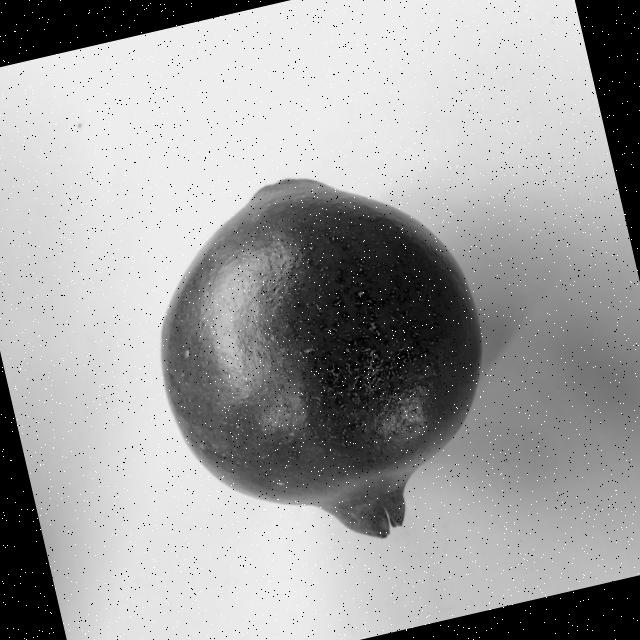overripe: (117, 135, 524, 581)
